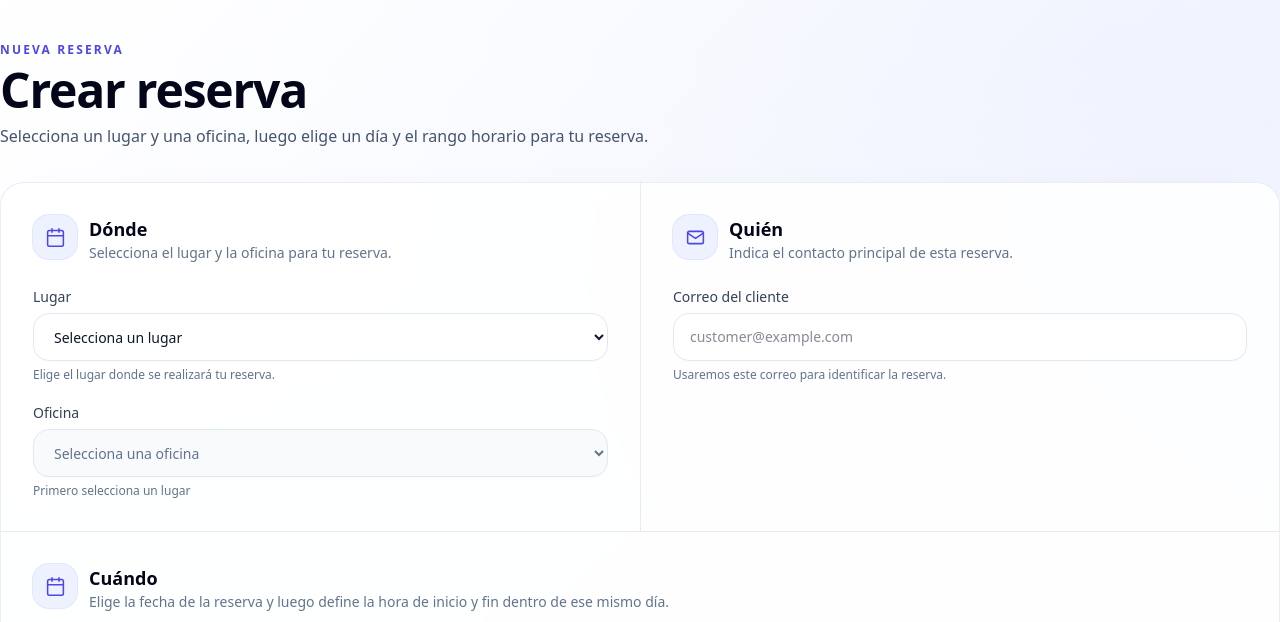
Test: NewReservationView › shows a dynamic preview for the selected time range
This screenshot has width=1280, height=622.
Select "Headquarters" in the dropdown labelled "Lugar" at (320, 337), box [33, 313, 608, 361]
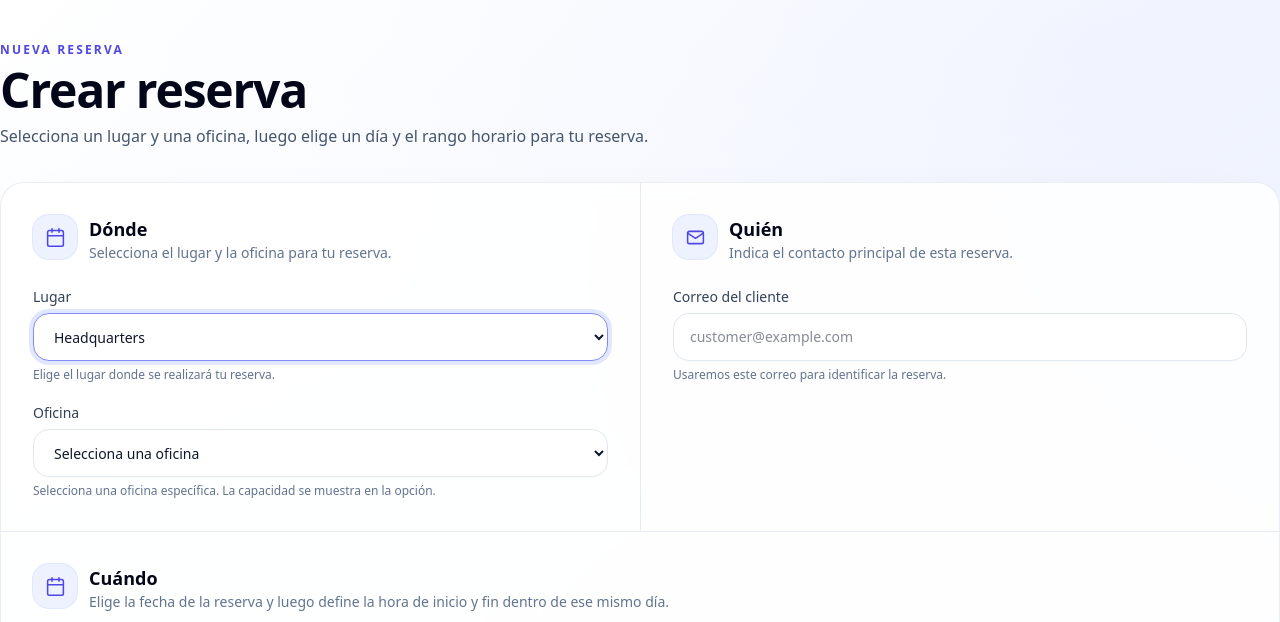
Select "Sky Room (cap. 8)" in the dropdown labelled "Oficina" at (320, 453), box [33, 429, 608, 477]
(page scrolled)
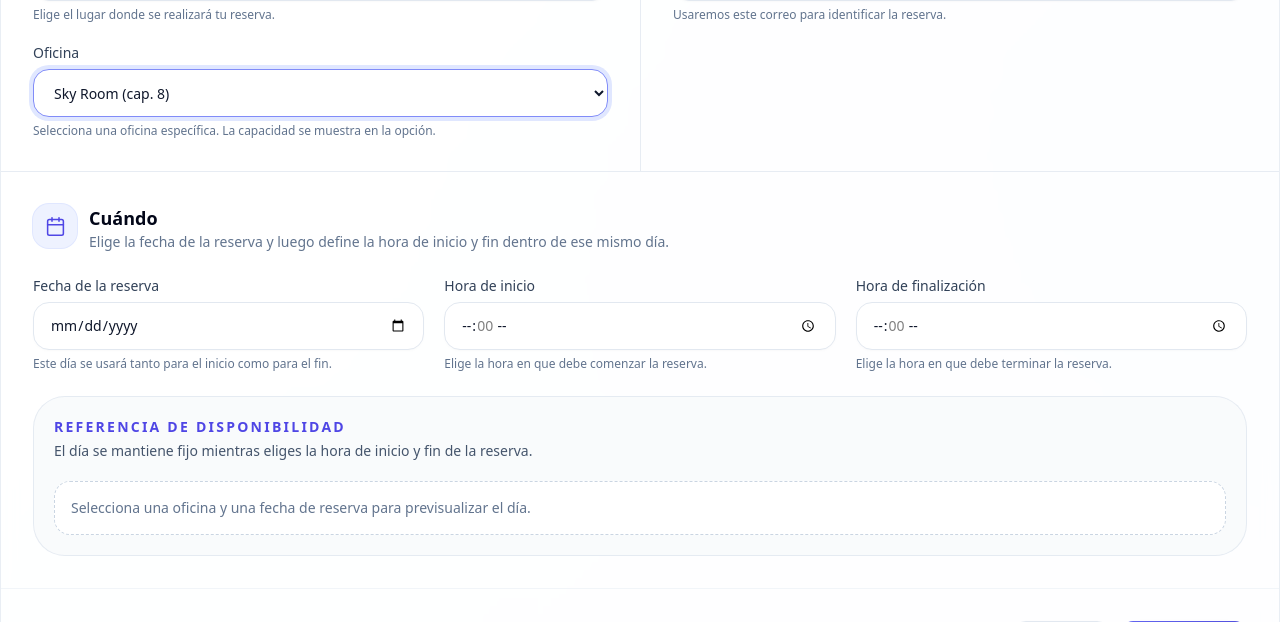
Type "2026-05-01" into the date field labelled "Fecha de la reserva" at (229, 326), box [33, 302, 424, 350]
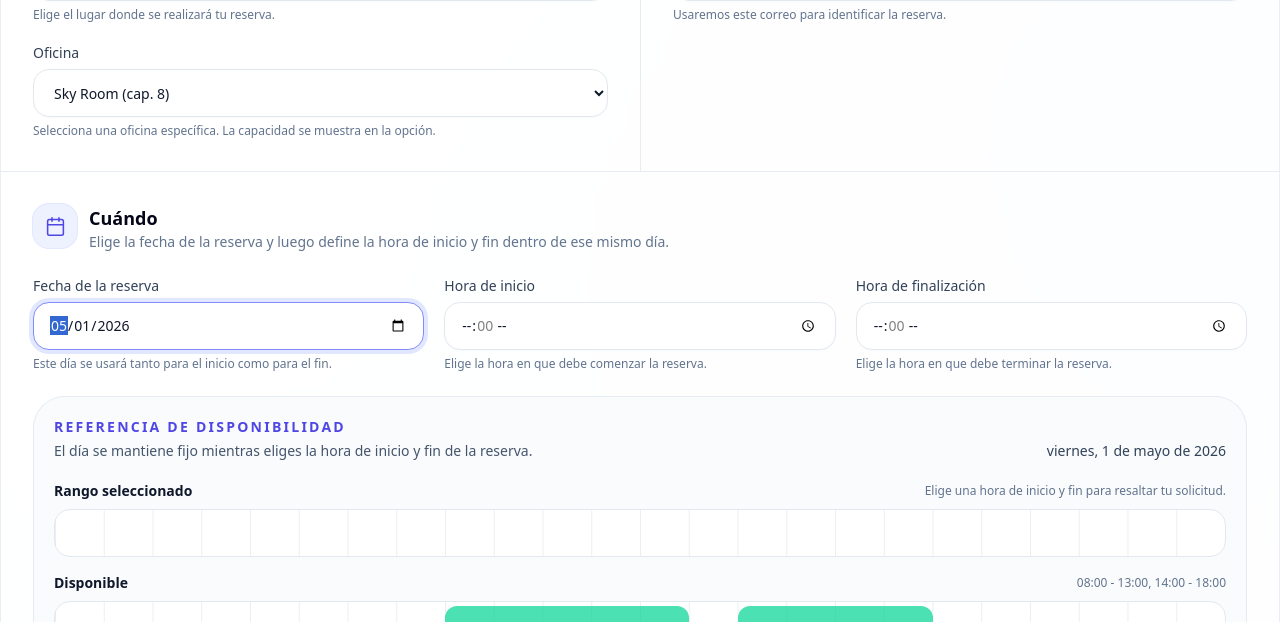
Type "10:00" into the time field labelled "Hora de inicio" at (640, 326), box [444, 302, 836, 350]
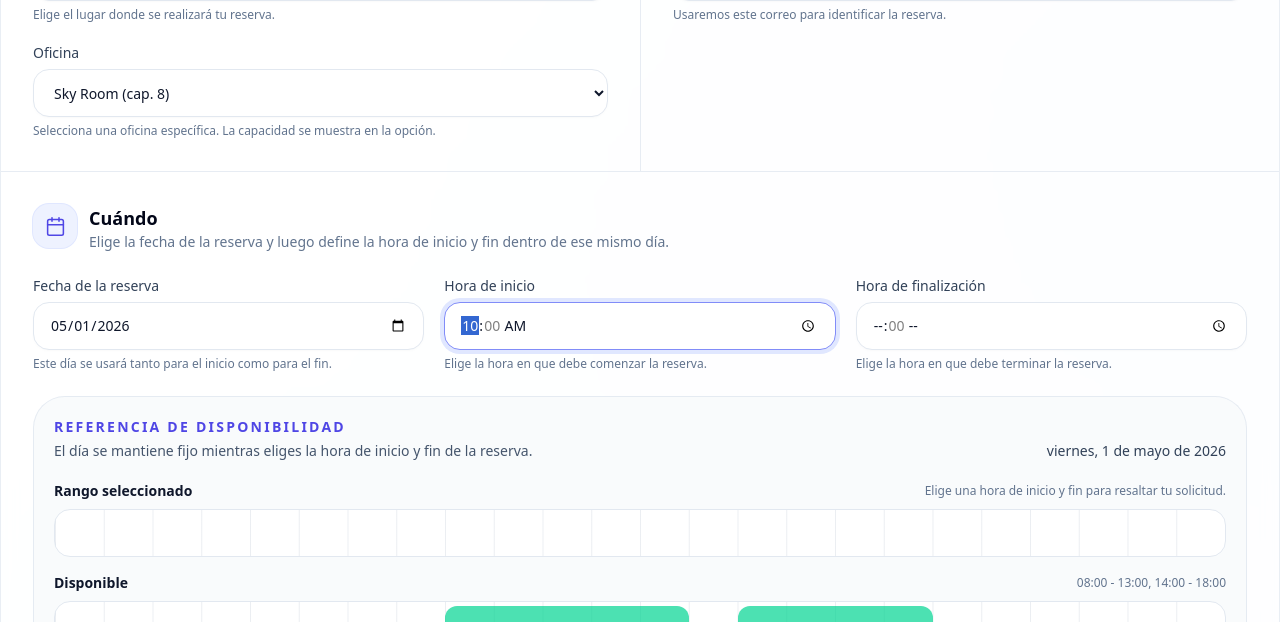
Type "12:00" into the time field labelled "Hora de finalización" at (1051, 326), box [856, 302, 1247, 350]
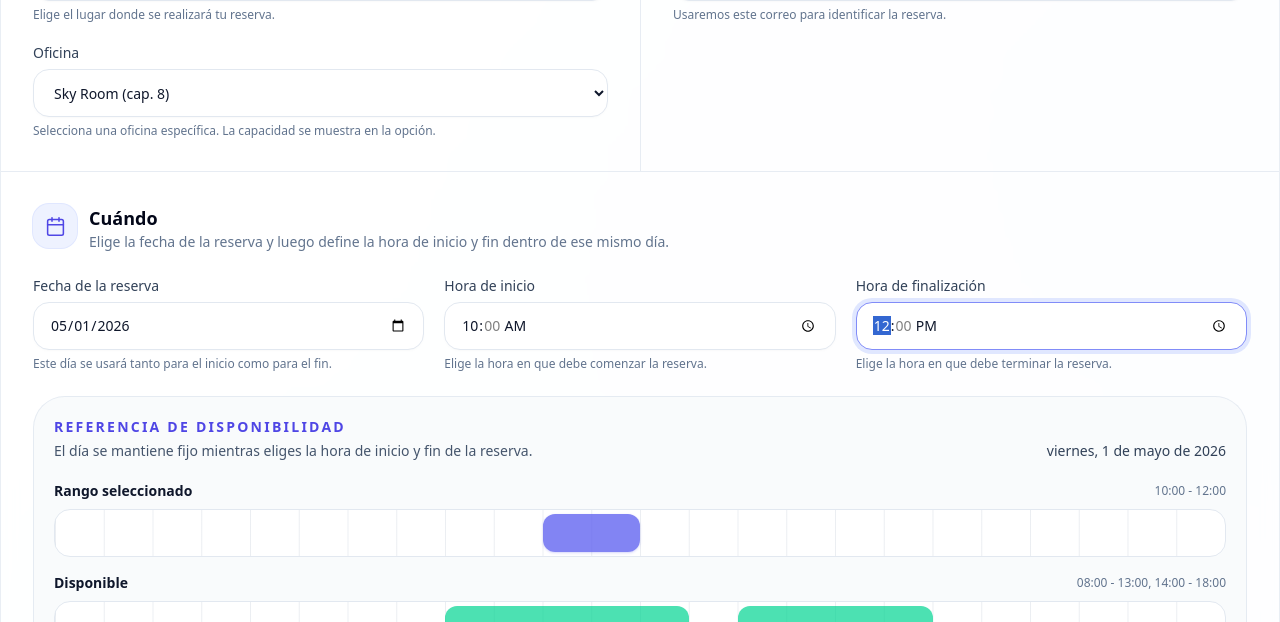
Now the text "Rango seleccionado" is shown, box [54, 481, 192, 501]
Now the text "10:00 - 12:00" is shown, box [1154, 483, 1226, 499]
